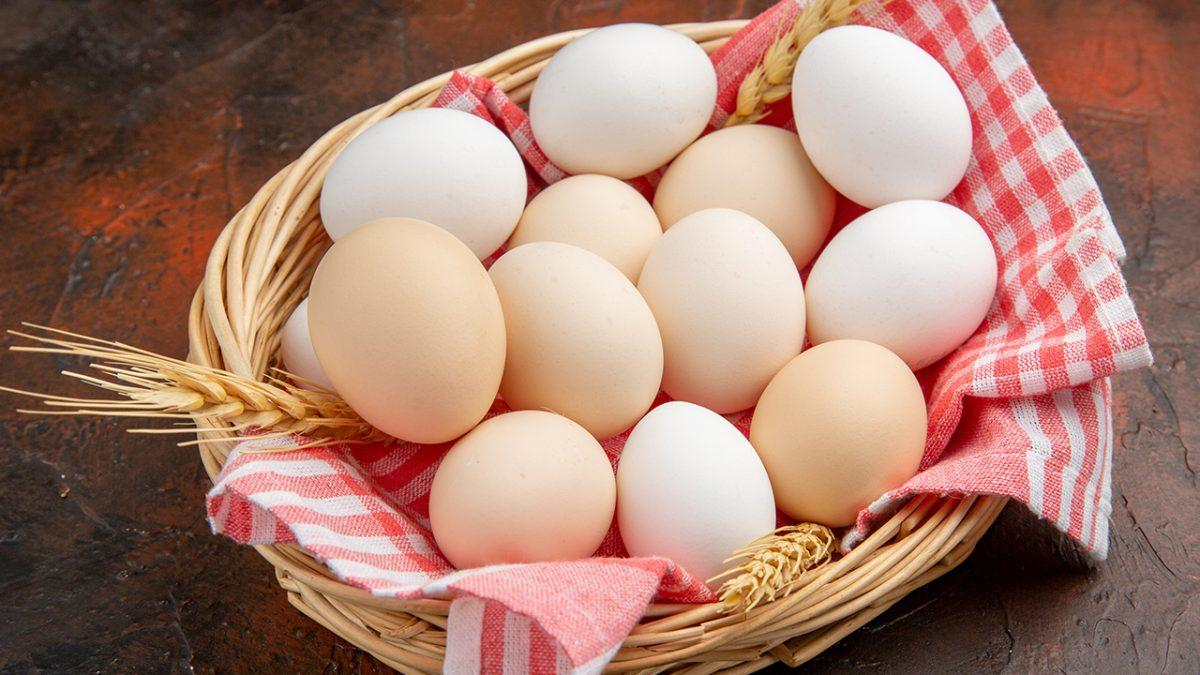egg: (306, 216, 508, 444), (482, 220, 674, 454), (634, 188, 808, 416), (786, 16, 976, 208), (810, 194, 1004, 376), (318, 104, 528, 272), (748, 334, 926, 522), (426, 404, 614, 576), (522, 18, 720, 180), (622, 396, 776, 596)
